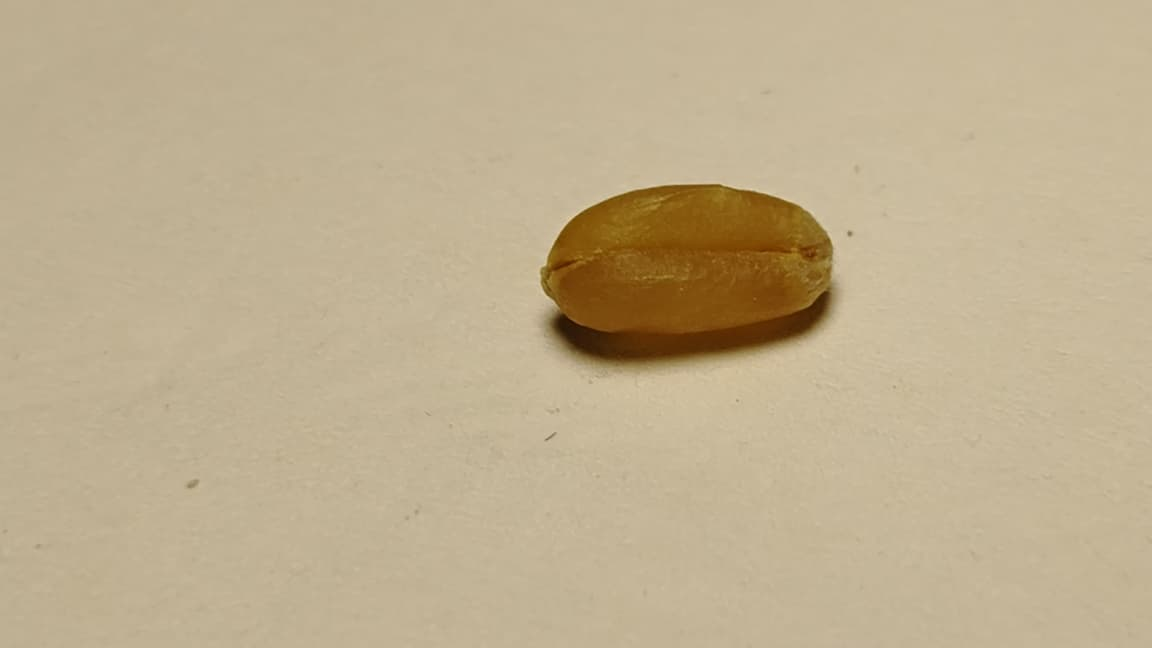healthy: (541, 184, 831, 334)
